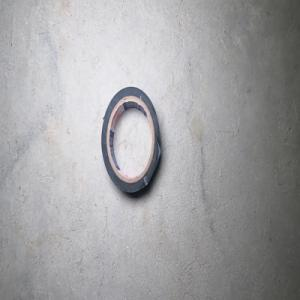Tape: (101, 86, 161, 198)
